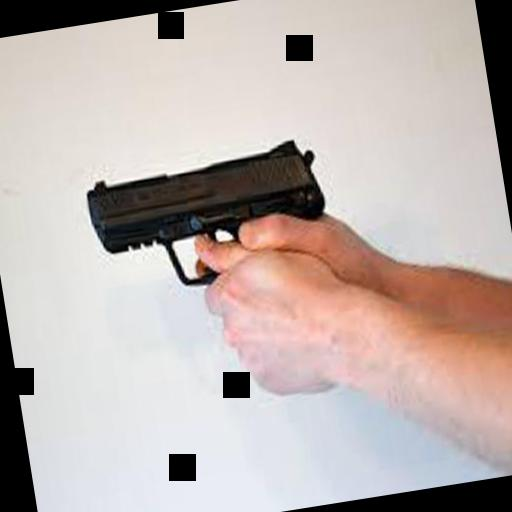Handgun: (82, 126, 330, 302)
